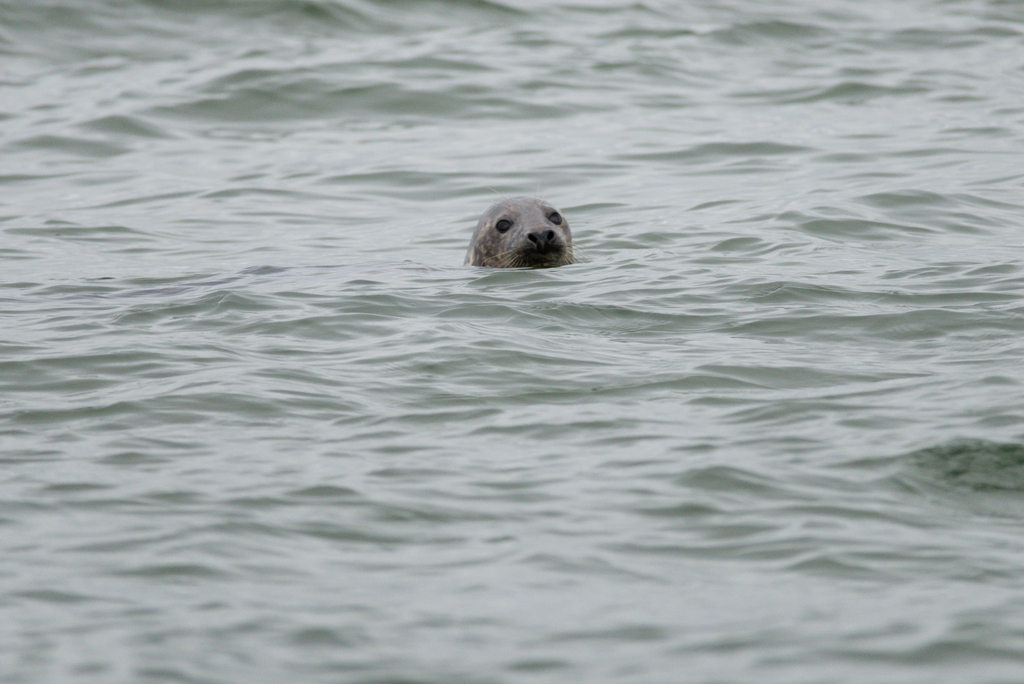person: (463, 193, 576, 269)
